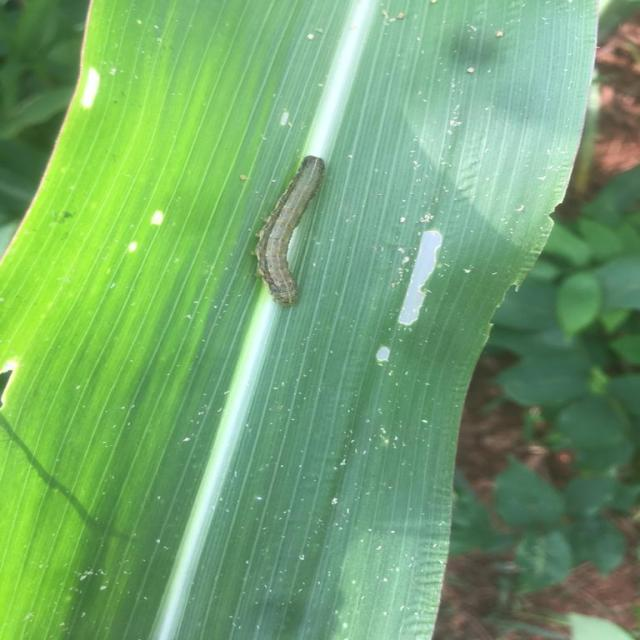yellow-stem-borer-larva: (233, 141, 342, 336)
